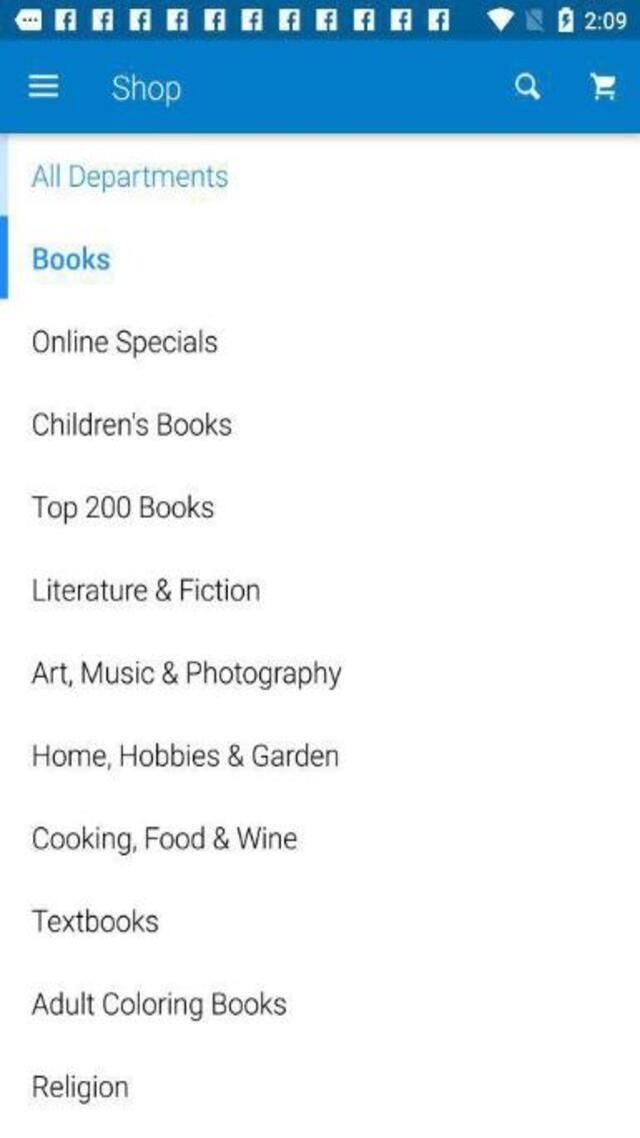Icon: (27, 74, 59, 100), (588, 73, 616, 101), (514, 72, 540, 99)
Text: (32, 659, 340, 689), (33, 741, 339, 770), (32, 824, 296, 854), (31, 990, 288, 1019), (31, 163, 228, 193), (34, 576, 260, 601), (31, 328, 218, 358), (32, 494, 215, 524), (34, 410, 232, 436), (31, 907, 159, 932), (32, 1073, 128, 1103), (112, 73, 180, 108), (33, 246, 110, 270)
